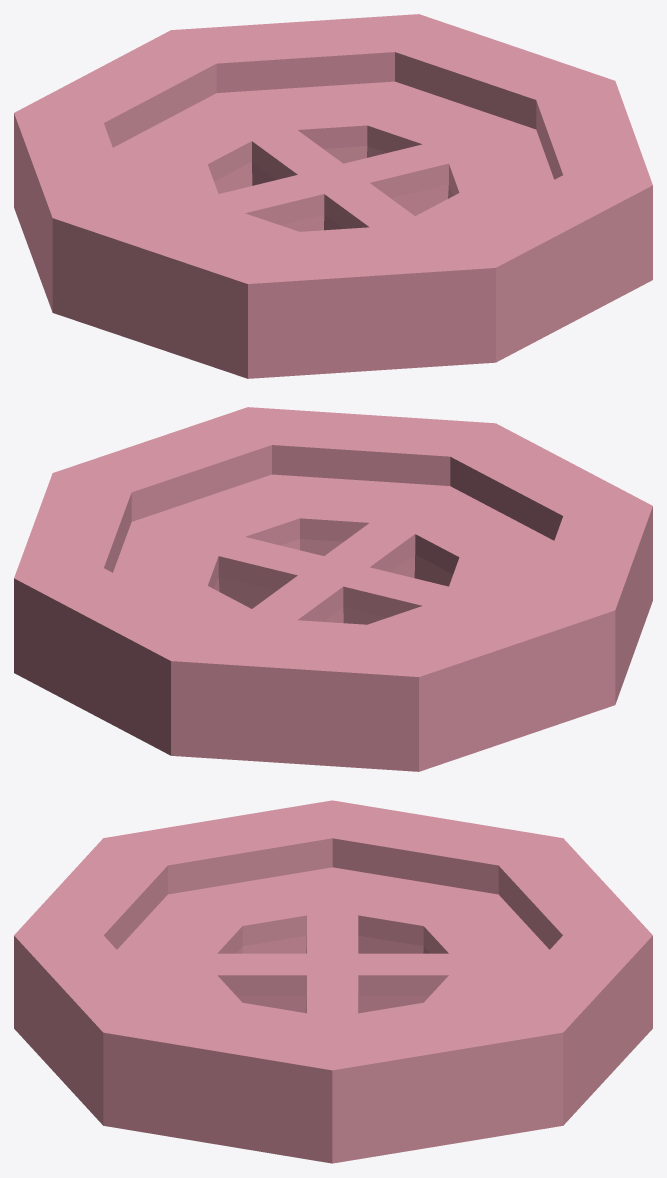
The picture shows the model from 3 angles, top to bottom: view 1: azimuth 30°, elevation 25°; view 2: azimuth 150°, elevation 25°; view 3: azimuth 270°, elevation 25°; orthographic projection.
Parts seen in each view (by area): view 1: Cube.019_Cube.035; view 2: Cube.019_Cube.035; view 3: Cube.019_Cube.035.
Boxes of the visible parts, bbox=[...] form: Cube.019_Cube.035: bbox=[14, 14, 652, 378]; Cube.019_Cube.035: bbox=[14, 407, 652, 771]; Cube.019_Cube.035: bbox=[14, 800, 652, 1163].
Size of the model in its own units: 0.2549 by 0.041 by 0.2549.
1 material, 1 textured.
